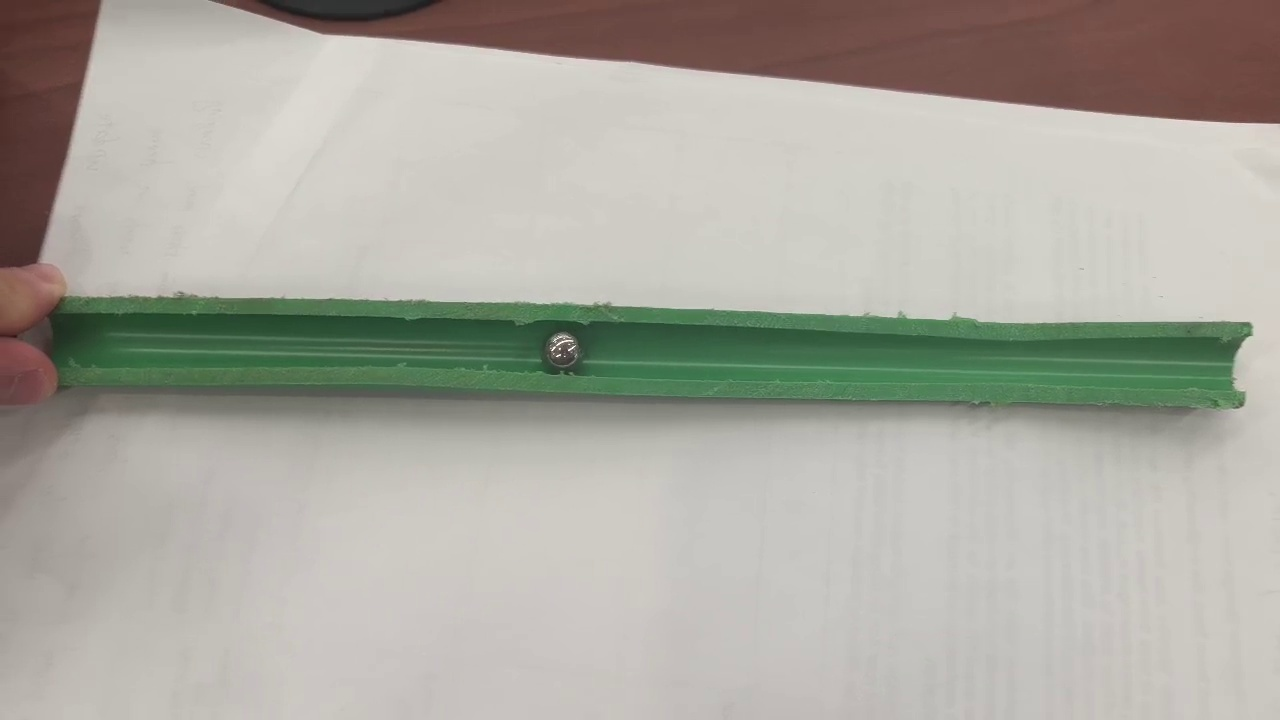ball: (546, 332, 580, 368)
